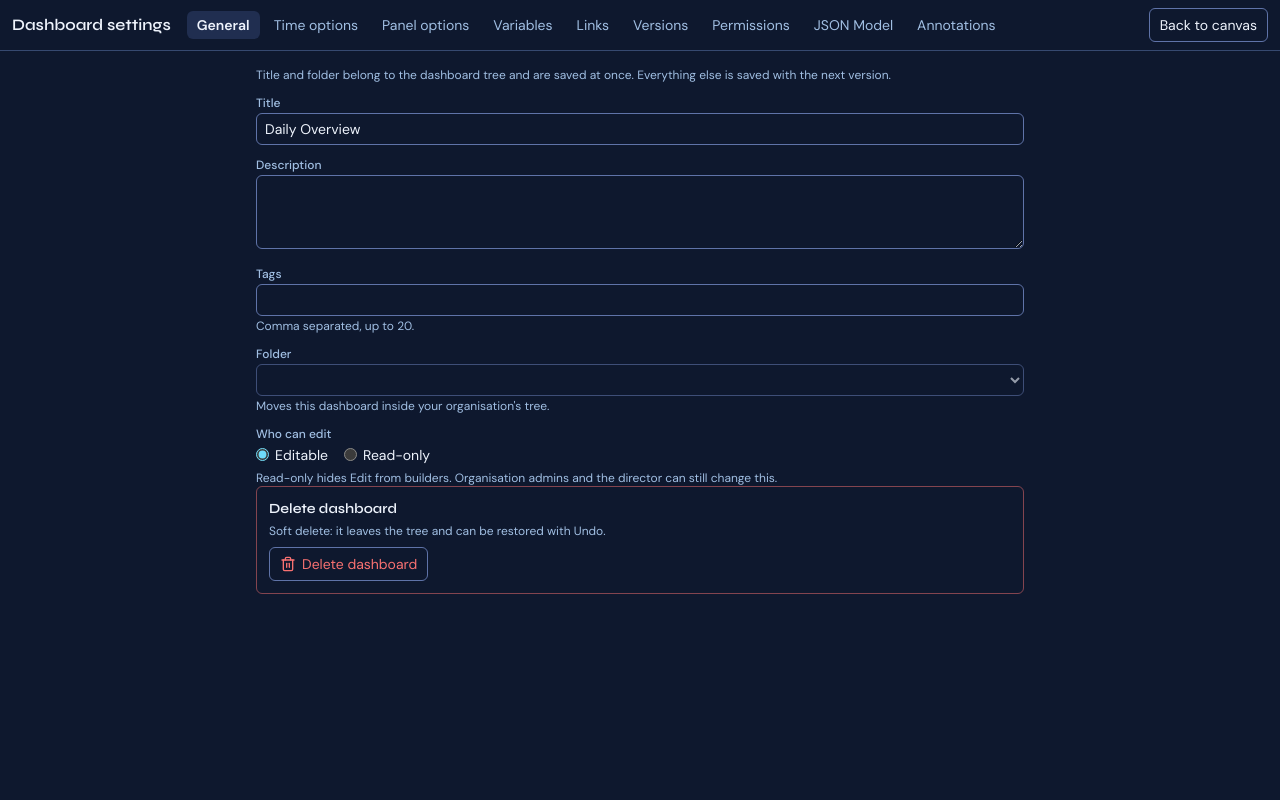
it: settings view (UI) › has no "default grid" option (the canvas is free-form) and states that time options are display only
Click the tab "Time options" at (316, 25), box [264,11,368,39]
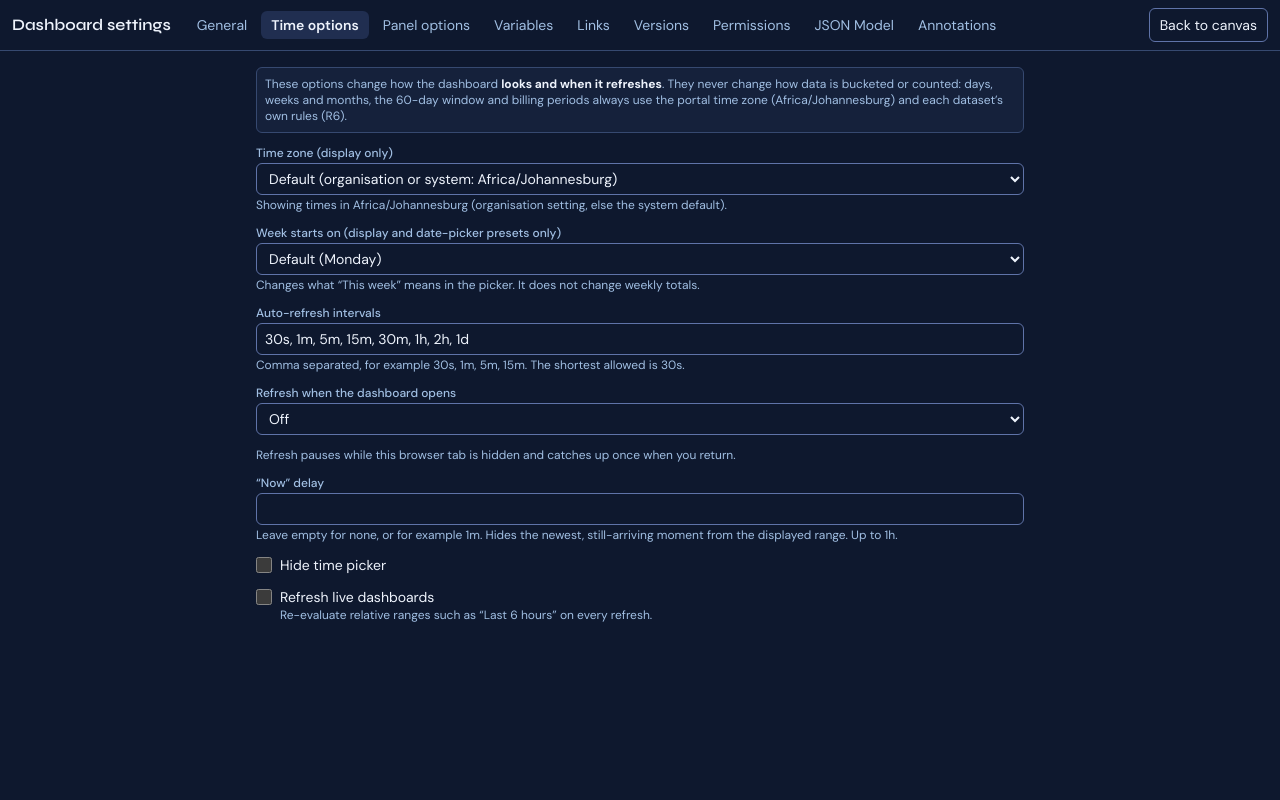
Now the text "never change how data is bucketed or counted" is shown, box [265,76,993,108]
